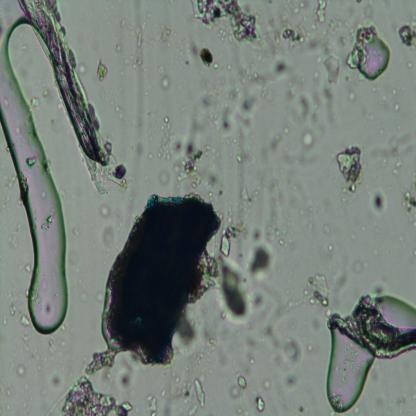Air bubble: (0, 4, 72, 336), (324, 331, 374, 412), (373, 289, 416, 330), (357, 40, 393, 84)
Background material: (255, 0, 329, 85), (218, 225, 276, 323), (199, 83, 259, 168), (189, 1, 261, 48), (58, 376, 133, 416), (166, 134, 212, 192), (264, 325, 302, 374), (334, 141, 366, 198), (294, 89, 336, 130), (375, 132, 416, 173), (124, 20, 149, 71), (84, 347, 118, 376), (303, 274, 331, 308), (399, 186, 416, 226), (322, 54, 343, 86), (237, 185, 262, 210), (270, 126, 291, 155), (154, 62, 172, 94), (370, 188, 388, 215), (196, 46, 216, 70), (228, 375, 247, 399), (193, 376, 206, 410), (298, 131, 319, 152), (92, 58, 110, 80), (101, 226, 117, 248), (350, 258, 370, 274), (97, 202, 111, 221), (254, 392, 266, 414), (158, 26, 172, 43), (147, 394, 158, 414), (19, 312, 30, 329), (15, 364, 27, 378), (7, 304, 17, 320), (393, 99, 402, 115), (346, 88, 356, 102), (23, 264, 32, 274)
Cellulose filter fibre: (20, 0, 117, 190), (331, 294, 416, 364)
Fragment: (105, 195, 222, 368)
